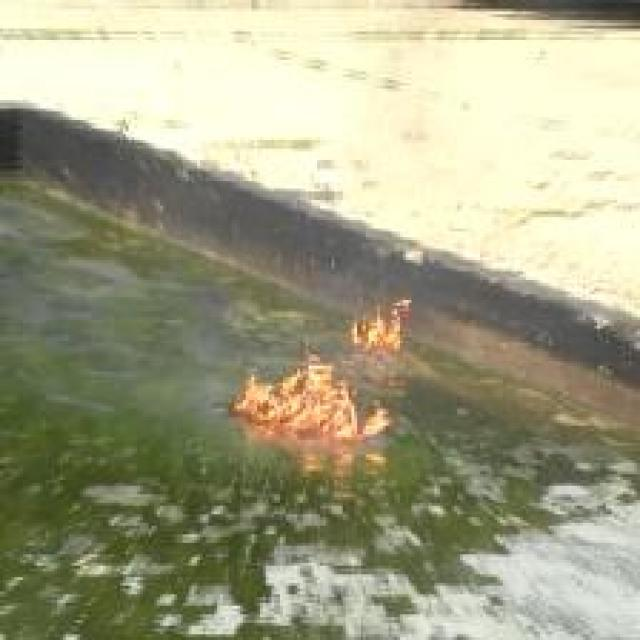Fire: (233, 357, 390, 440), (348, 297, 414, 349)
